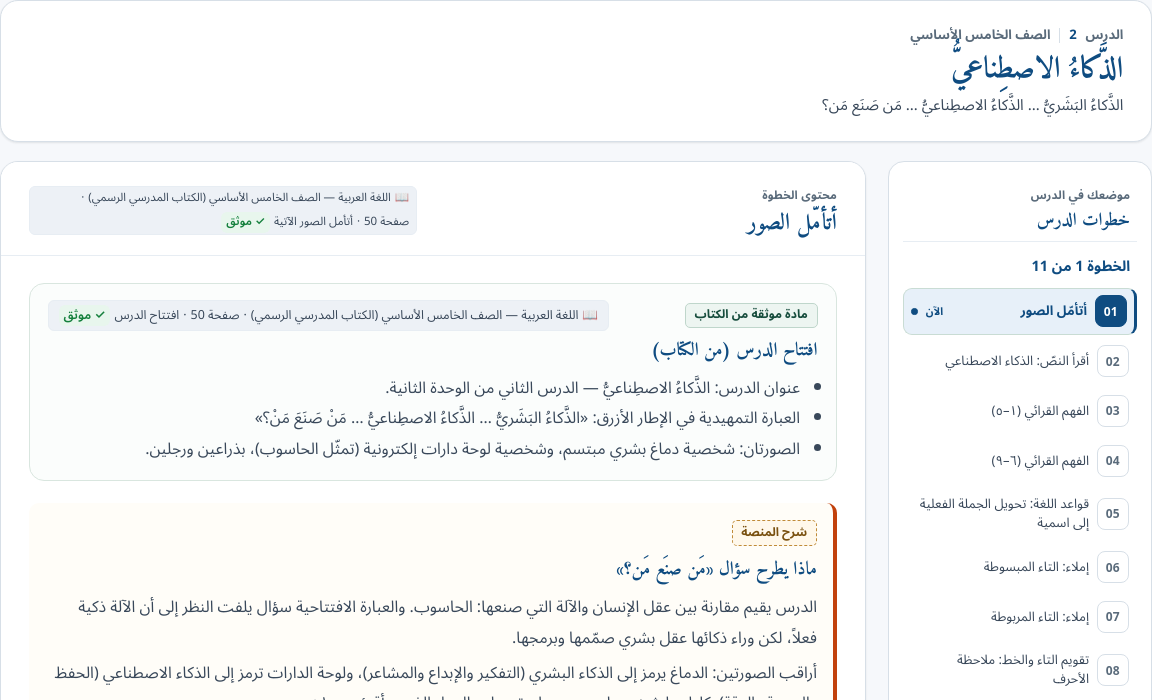
Test: PR 3b — unit2-lesson2: mixed steps, only the oral parts go › renders the mixed step without the radio material
Click the button with aria-label "الخطوة 4: الفهم القرائي" at (1020, 461), box x1=903 y1=438 x2=1137 y2=485
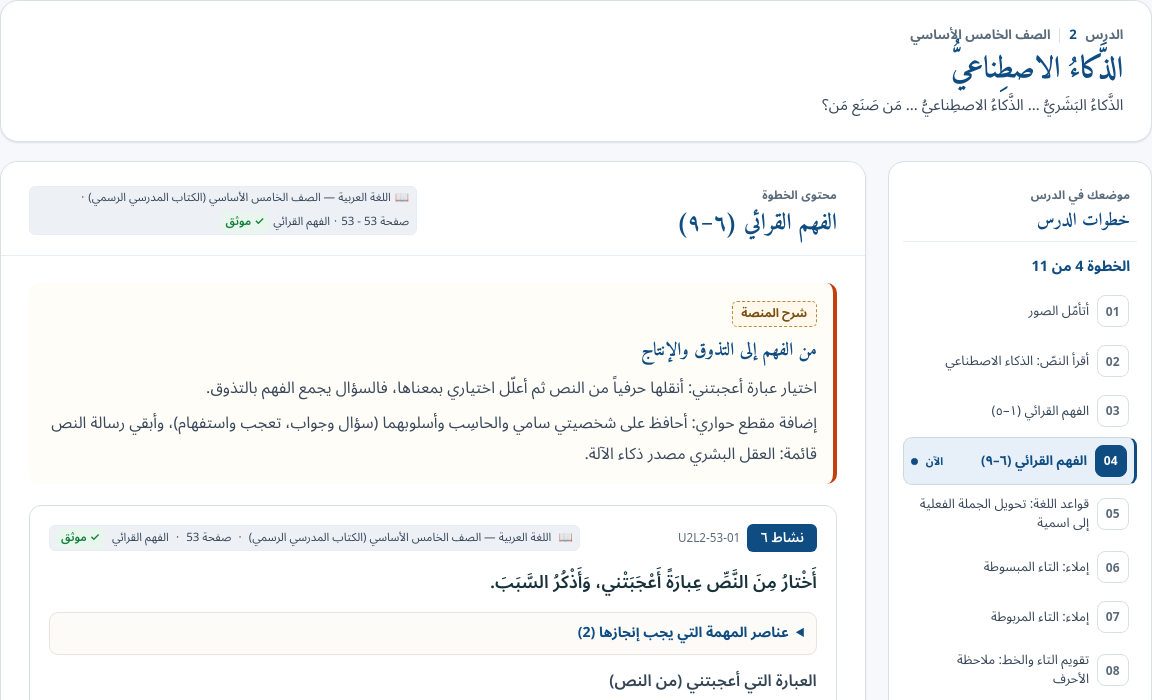
Result: the text "اختيار عبارة أعجبتني" is shown at x1=206 y1=371 x2=817 y2=405
